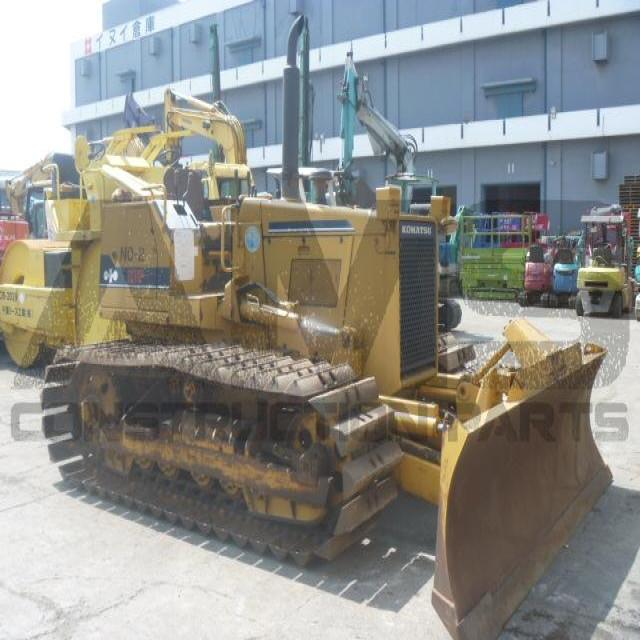buldozerpayloadergrader: (49, 119, 616, 638)
